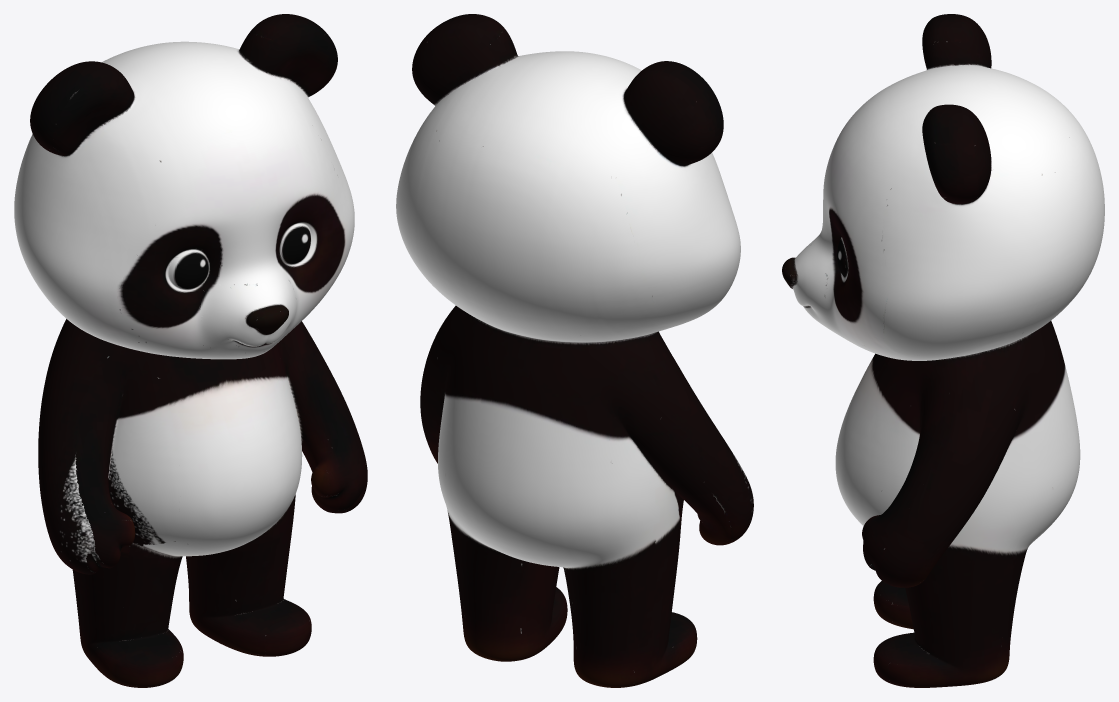
File: panda_webp.glb
The picture shows the model from 3 angles, left to right: view 1: azimuth 30°, elevation 25°; view 2: azimuth 150°, elevation 25°; view 3: azimuth 270°, elevation 25°; orthographic projection. The views are drawn at different scales.
Parts seen in each view (by area): view 1: world; view 2: world; view 3: world.
Part boxes in pixels (x1=…): world: x1=14, y1=14, x2=367, y2=687; world: x1=396, y1=14, x2=753, y2=687; world: x1=782, y1=14, x2=1104, y2=687.
Bounding box in the file's own units: 1.06 × 2 × 1.
Materials: 1 (1 with a texture image).
